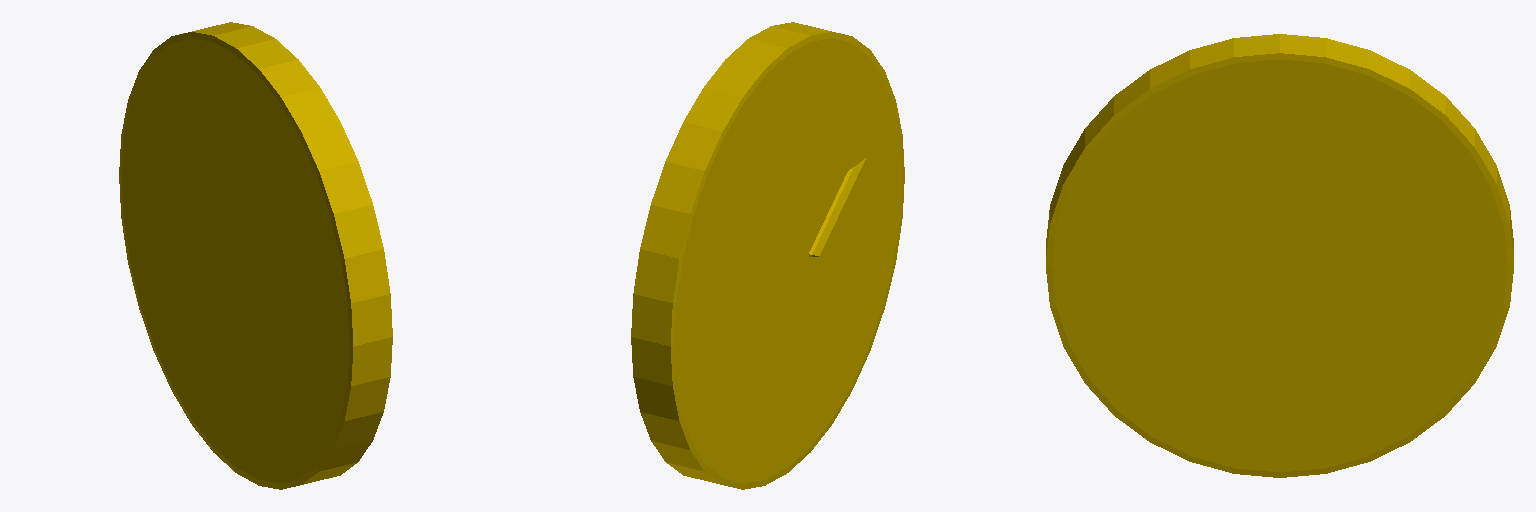
File: coin.obj
3 renders of one model, left to right at view 1: azimuth 30°, elevation 25°; view 2: azimuth 150°, elevation 25°; view 3: azimuth 270°, elevation 25°, orthographic.
Parts seen in each view (by area): view 1: Coin; view 2: Coin; view 3: Coin.
Part boxes in pixels (x1,y1,x2,y2): Coin: (119,22,392,489); Coin: (631,22,904,489); Coin: (1046,34,1513,477).
Bounding box in the file's own units: 0.2 × 2 × 2.